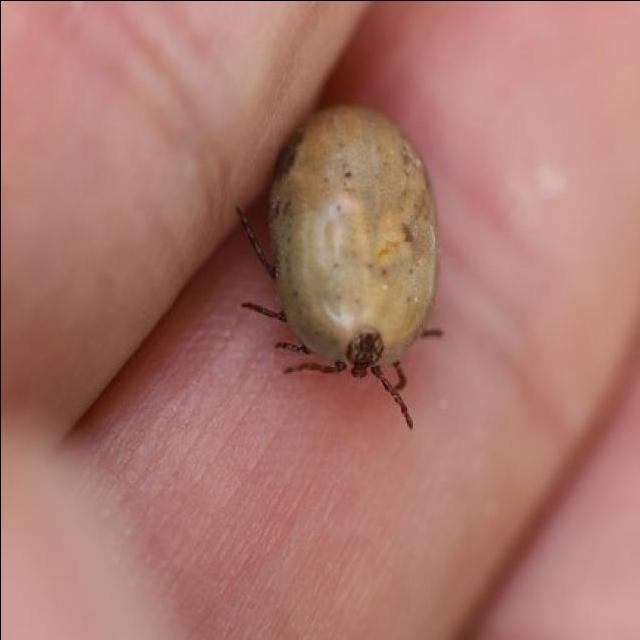Dermacentor Reticulatus-F-Fed: (237, 105, 446, 424)
